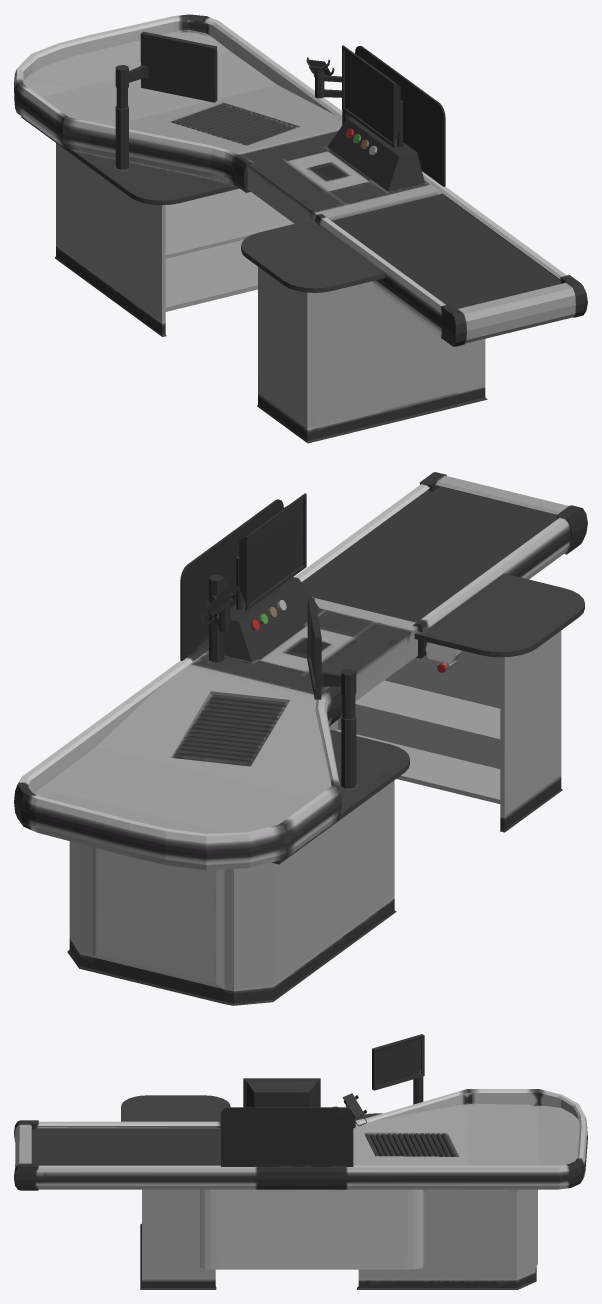
File: P_CheckDesk.obj
3 renders of one model, top to bottom at view 1: azimuth 30°, elevation 25°; view 2: azimuth 150°, elevation 25°; view 3: azimuth 270°, elevation 25°, orthographic. The views are drawn at different scales.
Size of the model in its own units: 1.01 by 1.18 by 3.03.
Materials: 1 (1 with a texture image).
